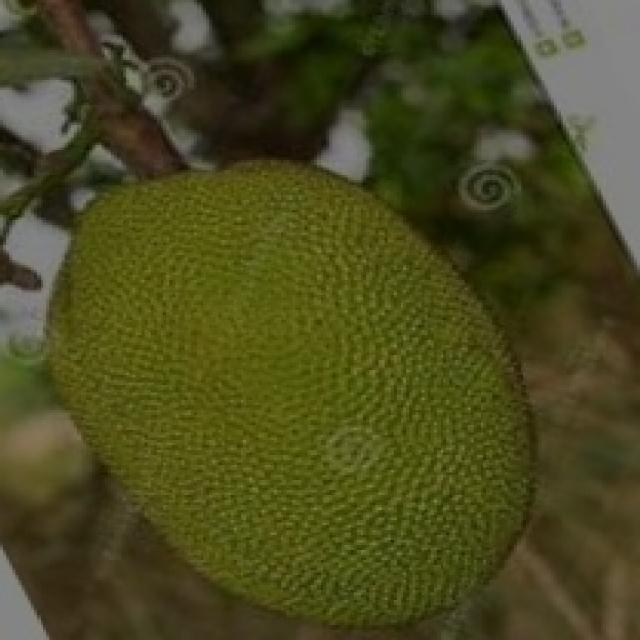Fruit: (262, 222, 582, 640)
